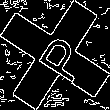P_NW: (24, 26, 86, 84)
